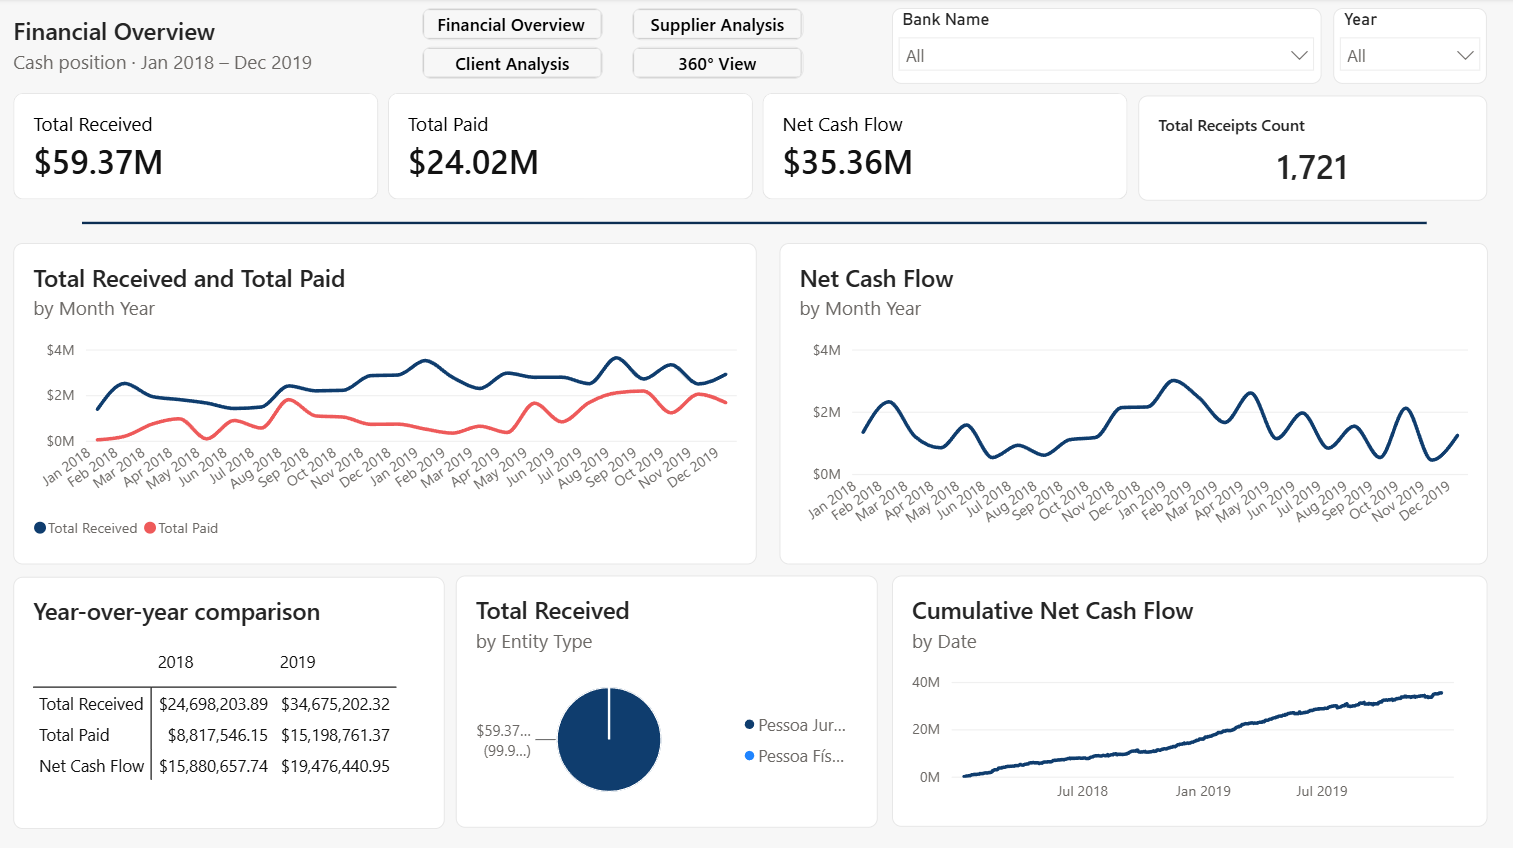

What the dashboard file says about the page in this screenshot:
{"tool":"powerbi","page":{"name":"Financial Overview","canvas":[1280,720],"ordinal":0},"visuals":[{"type":"cardVisual","title":"Financial Overview","fields":{"Data":["_measures.Total Received","_measures.Total Paid","_measures.Net Cash Flow"]},"box":[13.8,13.8,941.5,156.7],"z":0},{"type":"card","title":"Total Receipts Count","fields":{"Values":["_measures.Total Receipts Count"]},"box":[962.7,82.2,294.2,88.6],"z":1000},{"type":"lineChart","fields":{"Category":["dmDate.Month Year"],"Y":["_measures.Total Received","_measures.Total Paid"]},"box":[13.7,206.7,627.4,271],"z":2000},{"type":"lineChart","fields":{"Category":["dmDate.Month Year"],"Y":["_measures.Net Cash Flow"]},"box":[660.1,206.7,597.9,271],"z":3000},{"type":"lineChart","fields":{"Category":["dmDate.Date"],"Y":["_measures.Cumulative Net Cash Flow"]},"box":[754.7,487.7,502.7,211.9],"z":4000},{"type":"slicer","fields":{"Values":["dmDate.Year"]},"box":[1127.1,8.8,129.9,63.9],"z":5000},{"type":"slicer","fields":{"Values":["dmBanks.Bank Name"]},"box":[755.1,8.5,362.1,63.9],"z":6000},{"type":"shape","box":[72,163.4,1134.6,52.7],"z":7000},{"type":"pivotTable","title":"Year-over-year comparison","fields":{"Columns":["dmDate.Year"],"Values":["_measures.Total Received","_measures.Total Paid","_measures.Net Cash Flow"]},"box":[13.8,487.8,364.3,213],"z":8000},{"type":"pieChart","fields":{"Category":["dmClients.Entity Type"],"Y":["_measures.Total Received"]},"box":[387.4,487.7,356,213.1],"z":9000},{"type":"actionButton","title":"Cash Position","box":[358.5,8.4,152.9,27.4],"z":10000},{"type":"actionButton","title":"Page 3","box":[535.7,8.4,144.5,27.4],"z":11000},{"type":"actionButton","title":"Page 4","box":[535.7,41.1,144.5,27.4],"z":12000},{"type":"actionButton","title":"Page 2","box":[358.5,41.1,152.9,27.4],"z":13000}]}

Visuals, with their boxes in screenshot pixels (x1, y1, x2, y2), scaled from the page's 1280x720 canvas onto the 1513x848 screenshot:
"Financial Overview" cardVisual: box=[16, 16, 1129, 201]
"Total Receipts Count" card: box=[1138, 97, 1486, 201]
lineChart - dmDate.Month Year x _measures.Total Received: box=[16, 243, 758, 563]
lineChart - dmDate.Month Year x _measures.Net Cash Flow: box=[780, 243, 1487, 563]
lineChart - dmDate.Date x _measures.Cumulative Net Cash Flow: box=[892, 574, 1486, 824]
slicer - dmDate.Year: box=[1332, 10, 1486, 86]
slicer - dmBanks.Bank Name: box=[893, 10, 1321, 85]
shape: box=[85, 192, 1426, 255]
"Year-over-year comparison" pivotTable: box=[16, 575, 447, 825]
pieChart - dmClients.Entity Type x _measures.Total Received: box=[458, 574, 879, 825]
"Cash Position" actionButton: box=[424, 10, 604, 42]
"Page 3" actionButton: box=[633, 10, 804, 42]
"Page 4" actionButton: box=[633, 48, 804, 81]
"Page 2" actionButton: box=[424, 48, 604, 81]
